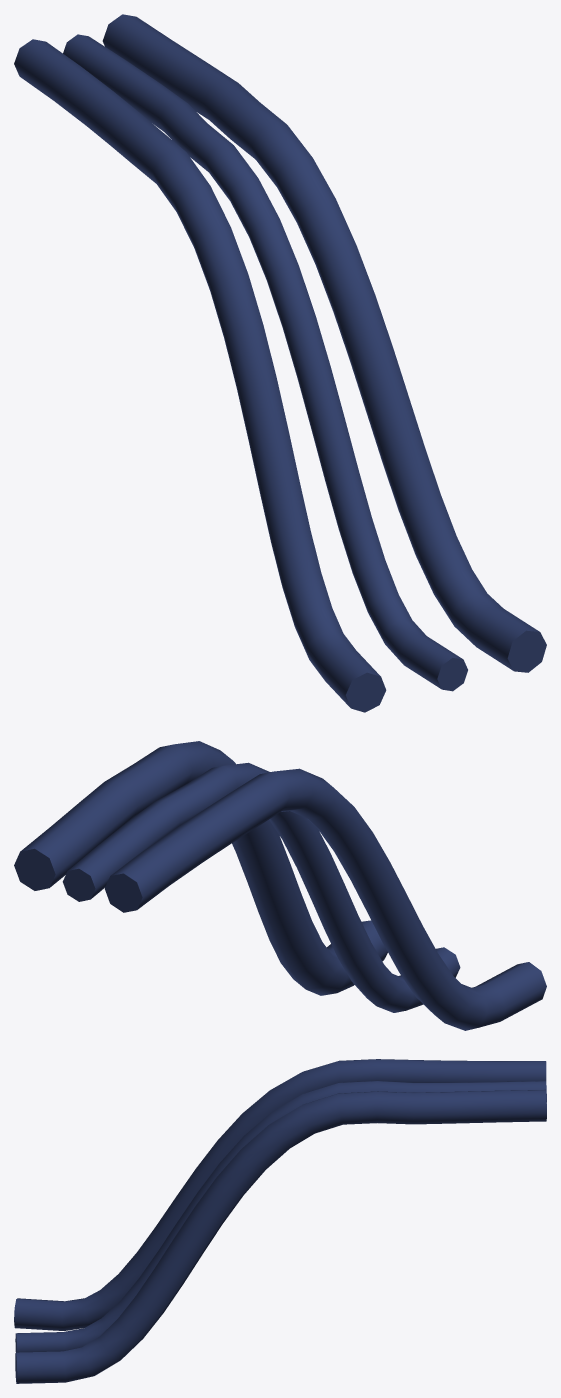
The model's file is cable_drop.glb.
The picture shows the model from 3 angles, top to bottom: view 1: azimuth 30°, elevation 25°; view 2: azimuth 150°, elevation 25°; view 3: azimuth 270°, elevation 25°; orthographic projection. The views are drawn at different scales.
Visible parts, largest first — view 1: cable_blue__cable_drop__ns; view 2: cable_blue__cable_drop__ns; view 3: cable_blue__cable_drop__ns.
Part boxes in pixels (x1,y1,x2,y2): cable_blue__cable_drop__ns: (14, 14, 546, 712); cable_blue__cable_drop__ns: (14, 741, 546, 1030); cable_blue__cable_drop__ns: (14, 1059, 546, 1383).
Size of the model in its own units: 0.6851 by 1.29 by 2.21.
